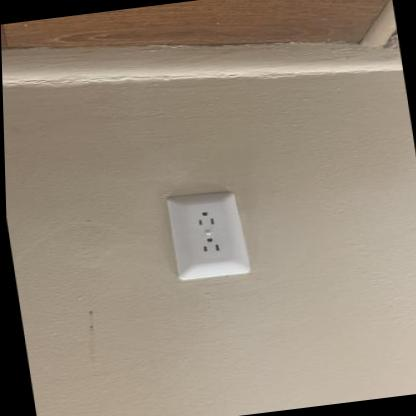OUTLET: (161, 185, 254, 284)
